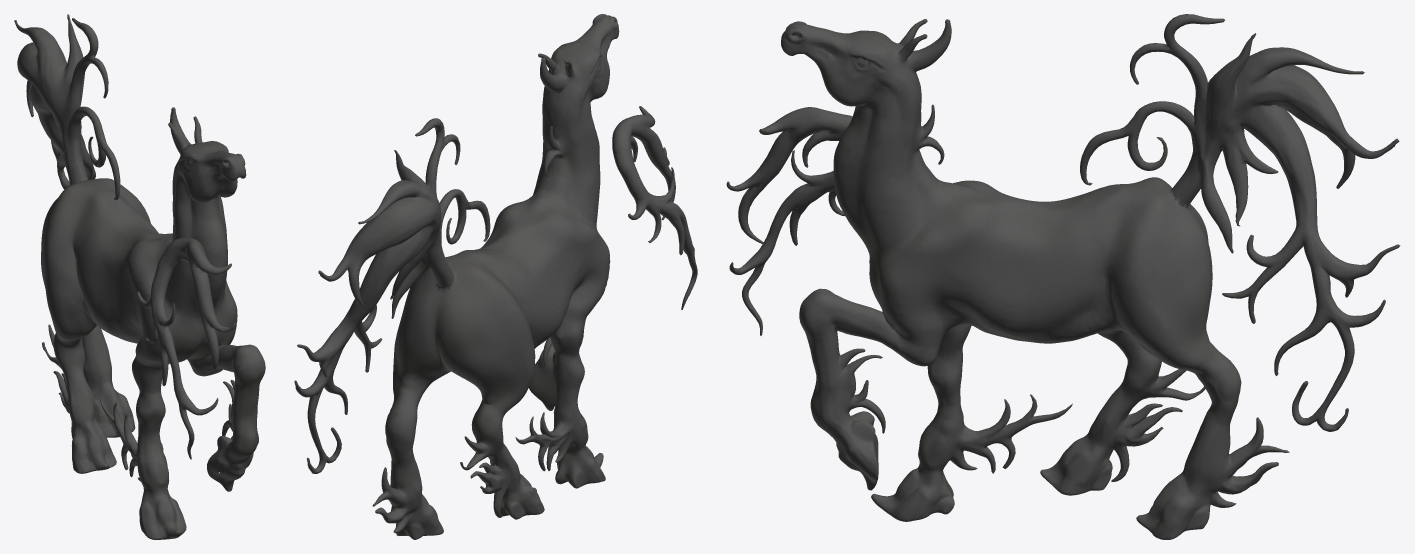
The model's file is mythical_horse.glb.
3 renders of one model, left to right at view 1: azimuth 30°, elevation 25°; view 2: azimuth 150°, elevation 25°; view 3: azimuth 270°, elevation 25°, orthographic. The views are drawn at different scales.
Parts seen in each view (by area): view 1: tripo_node_388abb61-59ba-45a6-a4fa-85fe5513a3fc; view 2: tripo_node_388abb61-59ba-45a6-a4fa-85fe5513a3fc; view 3: tripo_node_388abb61-59ba-45a6-a4fa-85fe5513a3fc.
Boxes of the visible parts, x1,y1,x2,y2 form: tripo_node_388abb61-59ba-45a6-a4fa-85fe5513a3fc: (14, 14, 265, 539); tripo_node_388abb61-59ba-45a6-a4fa-85fe5513a3fc: (294, 14, 697, 539); tripo_node_388abb61-59ba-45a6-a4fa-85fe5513a3fc: (726, 14, 1400, 539).
Bounding box in the file's own units: 0.2908 × 0.8353 × 0.9827.
1 material, 1 textured.
